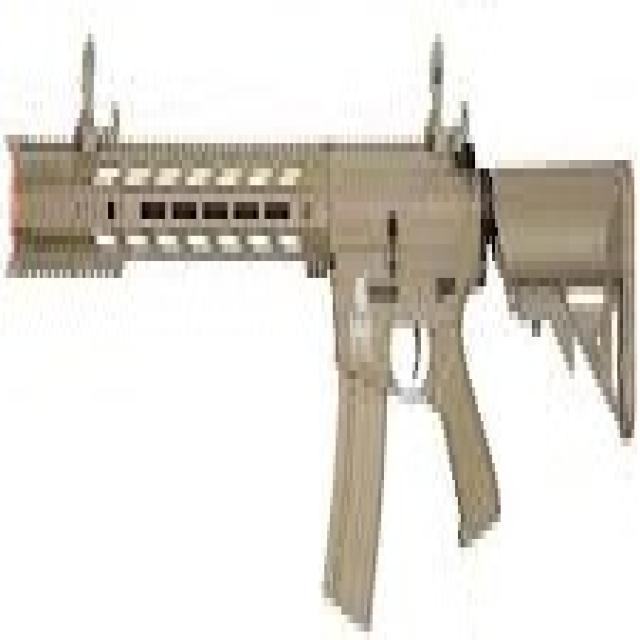rifle: (1, 5, 640, 640)
